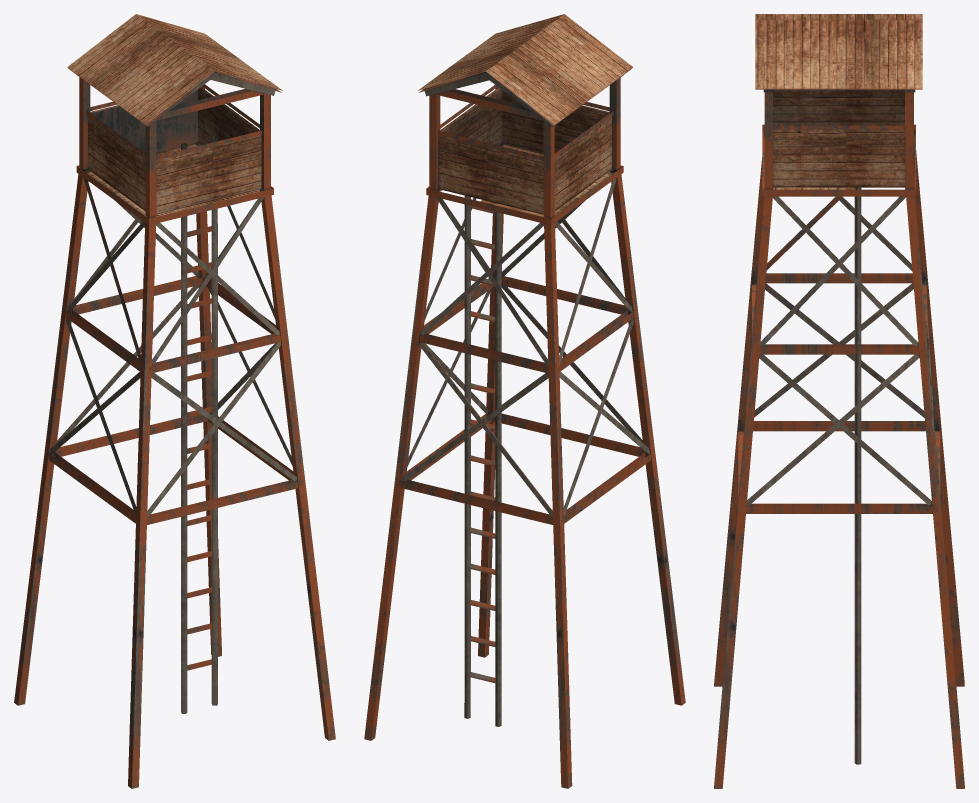
The model's file is watchtower.obj.
3 views of the same model, side by side, from view 1: azimuth 30°, elevation 25°; view 2: azimuth 150°, elevation 25°; view 3: azimuth 270°, elevation 25° (orthographic). The views are drawn at different scales.
Parts seen in each view (by area): view 1: watchtower; view 2: watchtower; view 3: watchtower.
Boxes of the visible parts, x1=… form: watchtower: x1=14, y1=14, x2=335, y2=788; watchtower: x1=364, y1=14, x2=685, y2=788; watchtower: x1=714, y1=14, x2=964, y2=788.
Bounding box in the file's own units: 63.74 × 203 × 63.72.
Materials: 1 (1 with a texture image).
